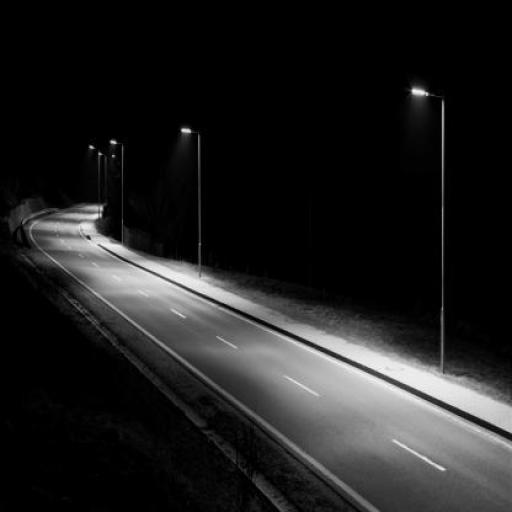street light: (408, 82, 446, 374), (181, 127, 203, 278), (109, 140, 125, 245), (90, 142, 100, 232), (98, 152, 108, 214), (112, 154, 119, 207)
